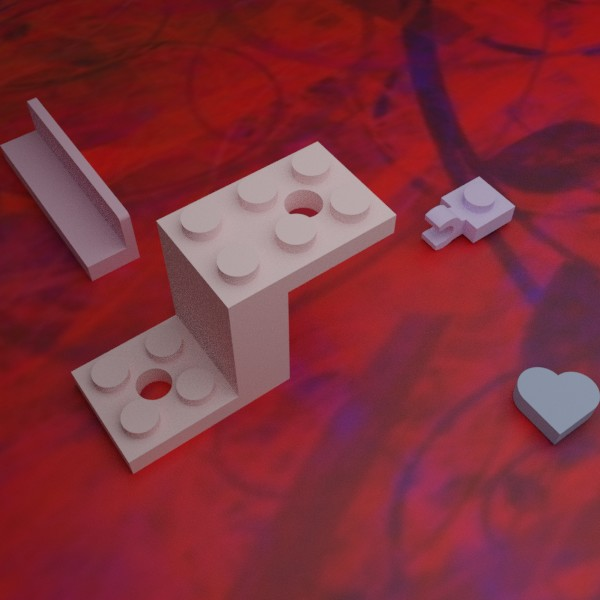lego: (70, 141, 396, 474), (0, 97, 139, 281), (421, 176, 515, 250), (512, 367, 600, 444)
